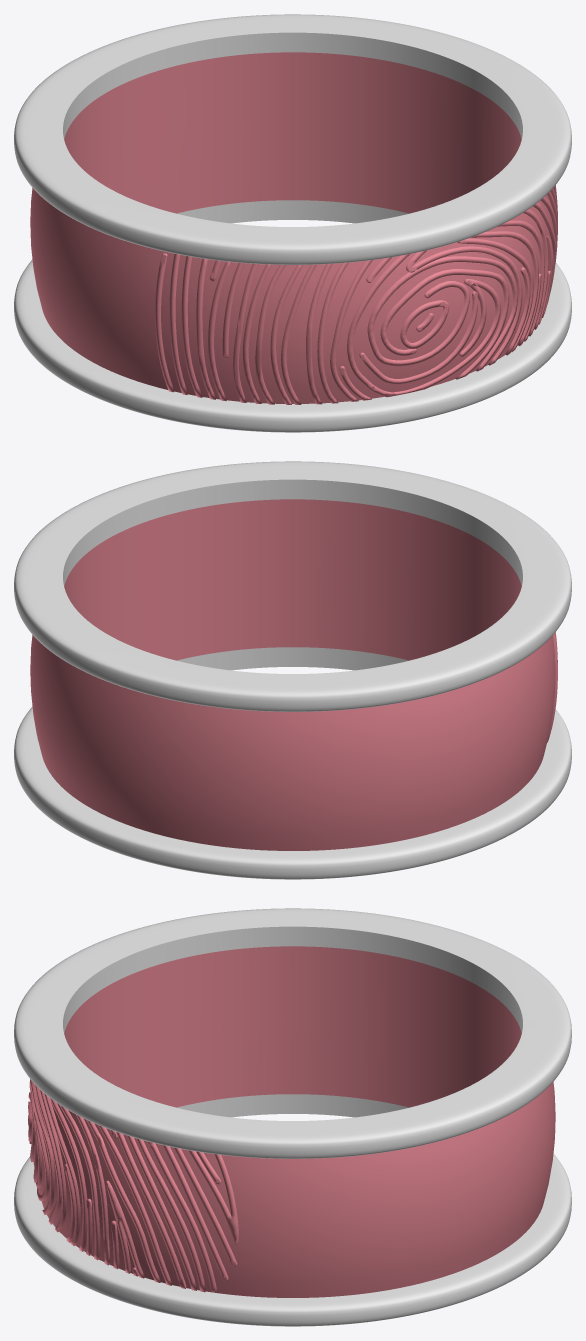
Rendered from angelaFingerPrint_webgi.glb.
3 views of the same model, one above another, from view 1: azimuth 30°, elevation 25°; view 2: azimuth 150°, elevation 25°; view 3: azimuth 270°, elevation 25° (orthographic).
Parts seen in each view (by area): view 1: Fingerprint_Ring_Angela_Anderson001, Fingerprint_Ring_Angela_Anderson, Fingerprint_Ring_Angela_Anderson032; view 2: Fingerprint_Ring_Angela_Anderson001, Fingerprint_Ring_Angela_Anderson; view 3: Fingerprint_Ring_Angela_Anderson001, Fingerprint_Ring_Angela_Anderson, Fingerprint_Ring_Angela_Anderson032.
Boxes of the visible parts, x1=… form: Fingerprint_Ring_Angela_Anderson001: x1=30, y1=52, x2=554, y2=403; Fingerprint_Ring_Angela_Anderson: x1=14, y1=14, x2=571, y2=432; Fingerprint_Ring_Angela_Anderson032: x1=155, y1=185, x2=557, y2=404; Fingerprint_Ring_Angela_Anderson001: x1=30, y1=499, x2=555, y2=850; Fingerprint_Ring_Angela_Anderson: x1=14, y1=461, x2=571, y2=879; Fingerprint_Ring_Angela_Anderson001: x1=31, y1=946, x2=555, y2=1297; Fingerprint_Ring_Angela_Anderson: x1=14, y1=908, x2=571, y2=1326; Fingerprint_Ring_Angela_Anderson032: x1=28, y1=1079, x2=238, y2=1292.
Bounding box in the file's own units: 2.74 × 1.01 × 2.74.
